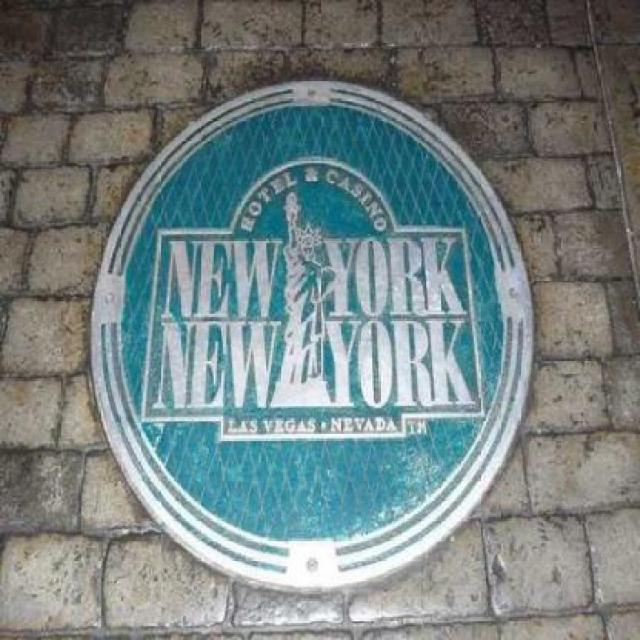Manhole: (75, 69, 548, 602)
